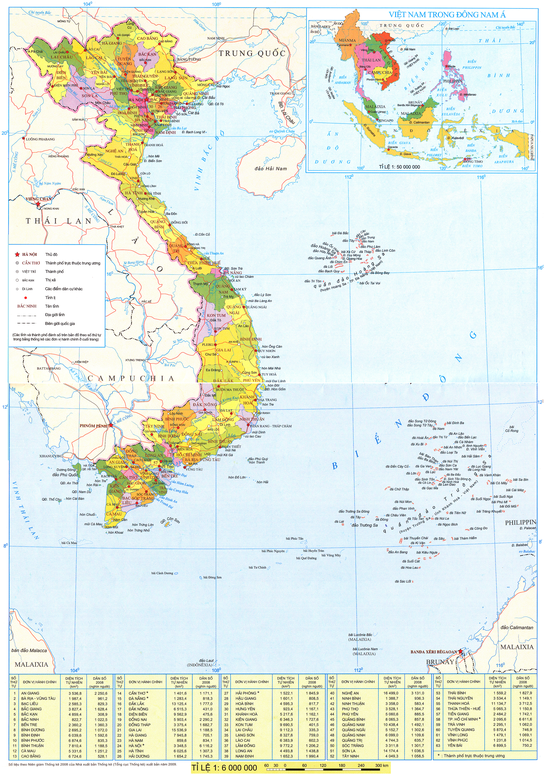Island: (335, 412, 541, 589), (295, 212, 403, 298)
